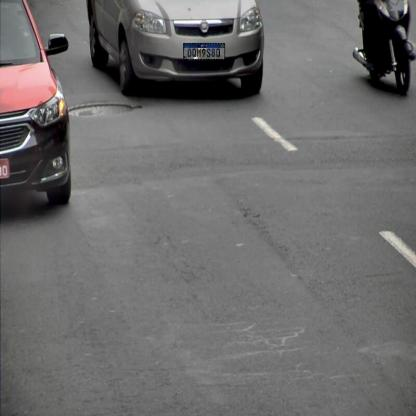PlacaM: (183, 43, 225, 60)
